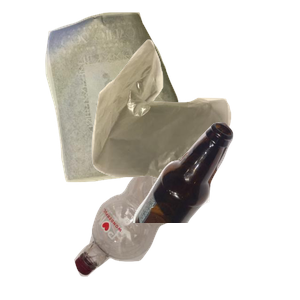glass: (130, 120, 300, 300)
paper: (43, 10, 221, 185)
plastic: (72, 142, 273, 300)
trash: (89, 37, 300, 213)
